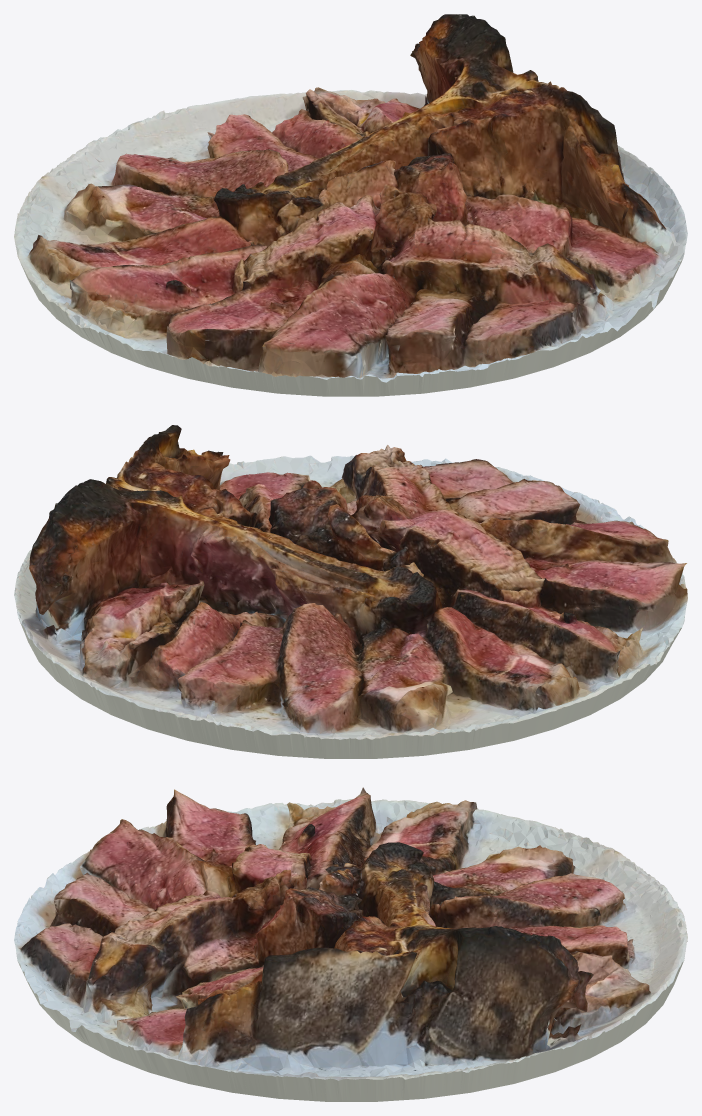
File: grilled-steak.glb
3 views of the same model, one above another, from view 1: azimuth 30°, elevation 25°; view 2: azimuth 150°, elevation 25°; view 3: azimuth 270°, elevation 25° (orthographic).
Visible parts, largest first — view 1: FlorenceSteak_Model_3, FlorenceSteak_Model_3.001; view 2: FlorenceSteak_Model_3, FlorenceSteak_Model_3.001; view 3: FlorenceSteak_Model_3, FlorenceSteak_Model_3.001.
Part boxes in pixels (left/top/right/bottom): FlorenceSteak_Model_3: left=14, top=14, right=687, bottom=382; FlorenceSteak_Model_3.001: left=18, top=129, right=681, bottom=396; FlorenceSteak_Model_3: left=14, top=425, right=687, bottom=739; FlorenceSteak_Model_3.001: left=14, top=456, right=686, bottom=758; FlorenceSteak_Model_3: left=14, top=787, right=687, bottom=1080; FlorenceSteak_Model_3.001: left=17, top=799, right=687, bottom=1101.
Size of the model in its own units: 0.32 by 0.0863 by 0.3209.
Materials: 2 (1 with a texture image).
